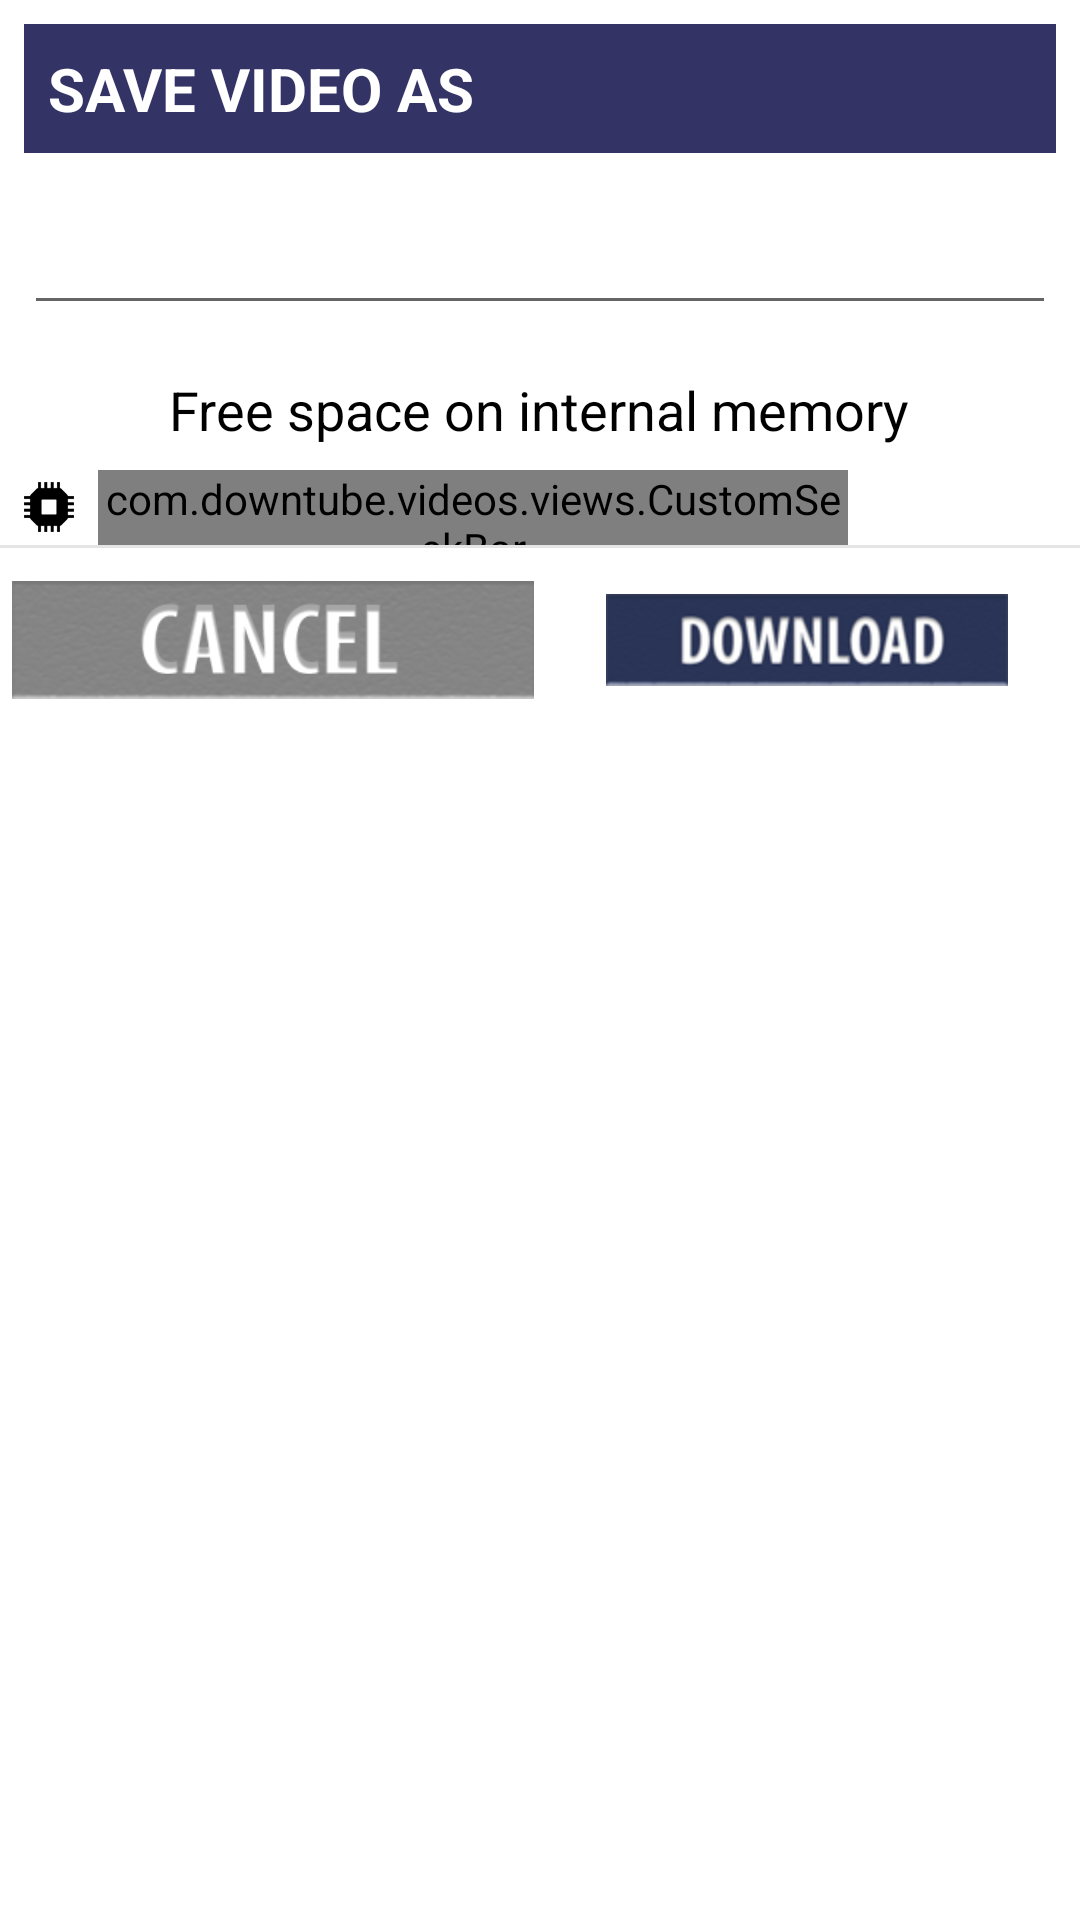

Point at icon controls on the screen. Image size 1080x1920, points as point (x, y).
intmem: point (49, 507)
